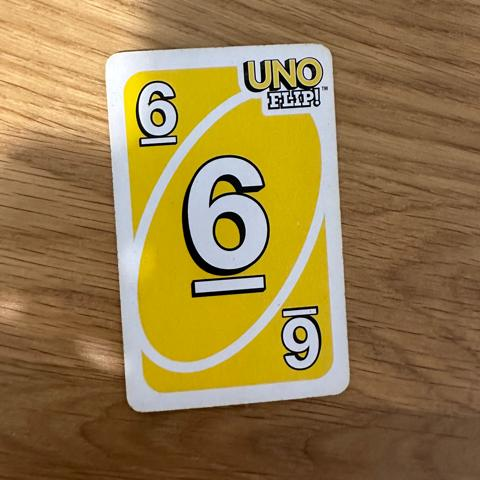draw2_green: (184, 154, 271, 297), (278, 299, 325, 375), (130, 78, 182, 145)
